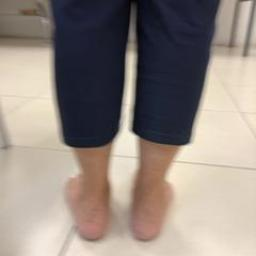Back View -Both Feet-: (49, 154, 187, 250)
